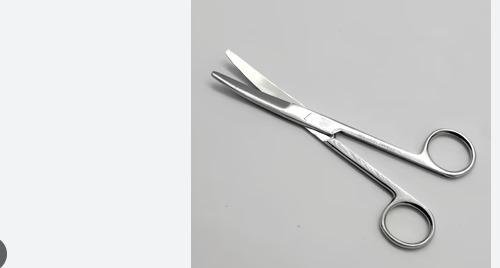Curved Mayo: (210, 47, 480, 252)
